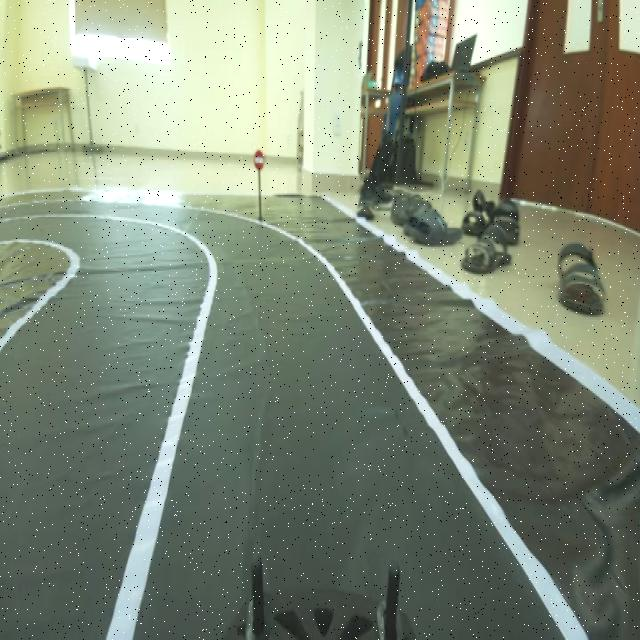no_entry: (251, 144, 268, 174)
